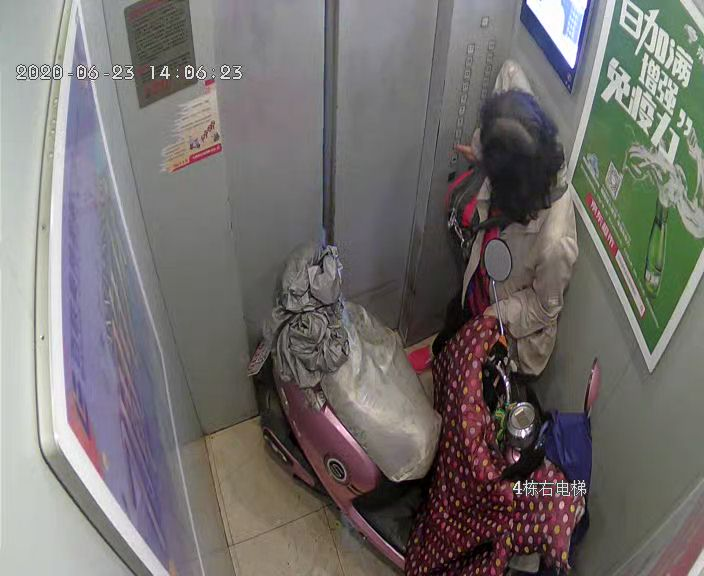Electric-bicycle: (267, 260, 597, 569)
